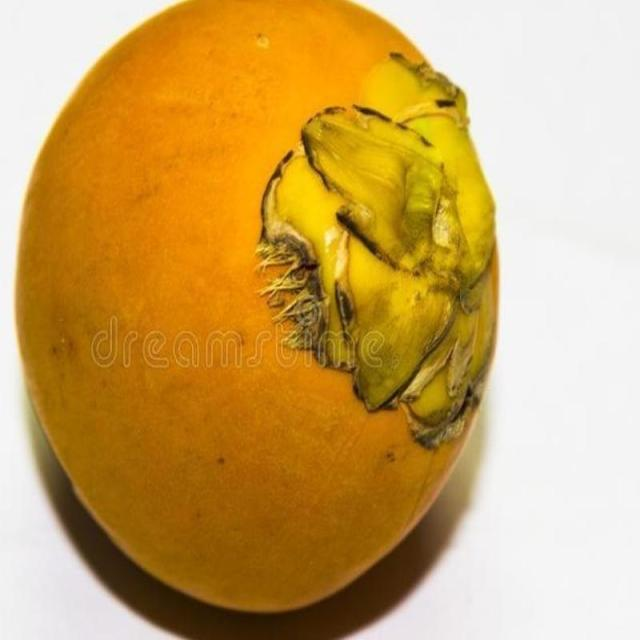good: (14, 0, 500, 618)
